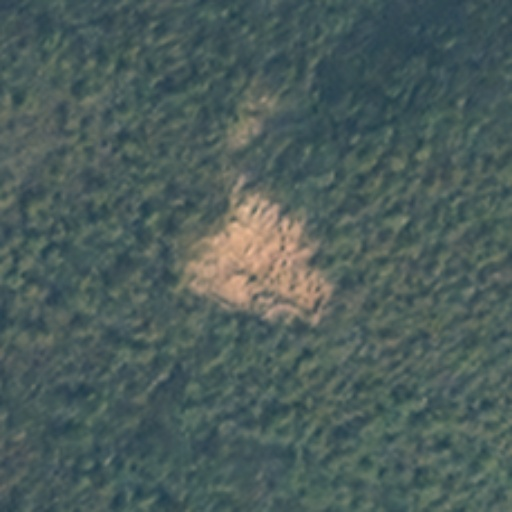landslide: (171, 191, 337, 324)
